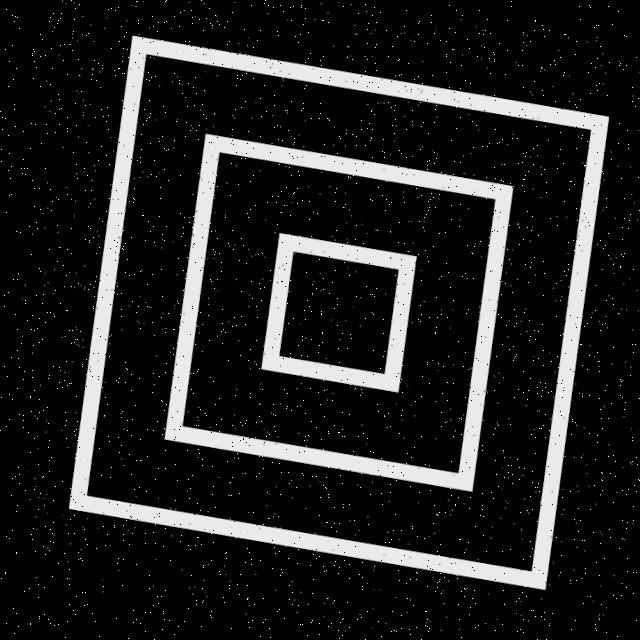BULLSEYE: (14, 0, 640, 635)
